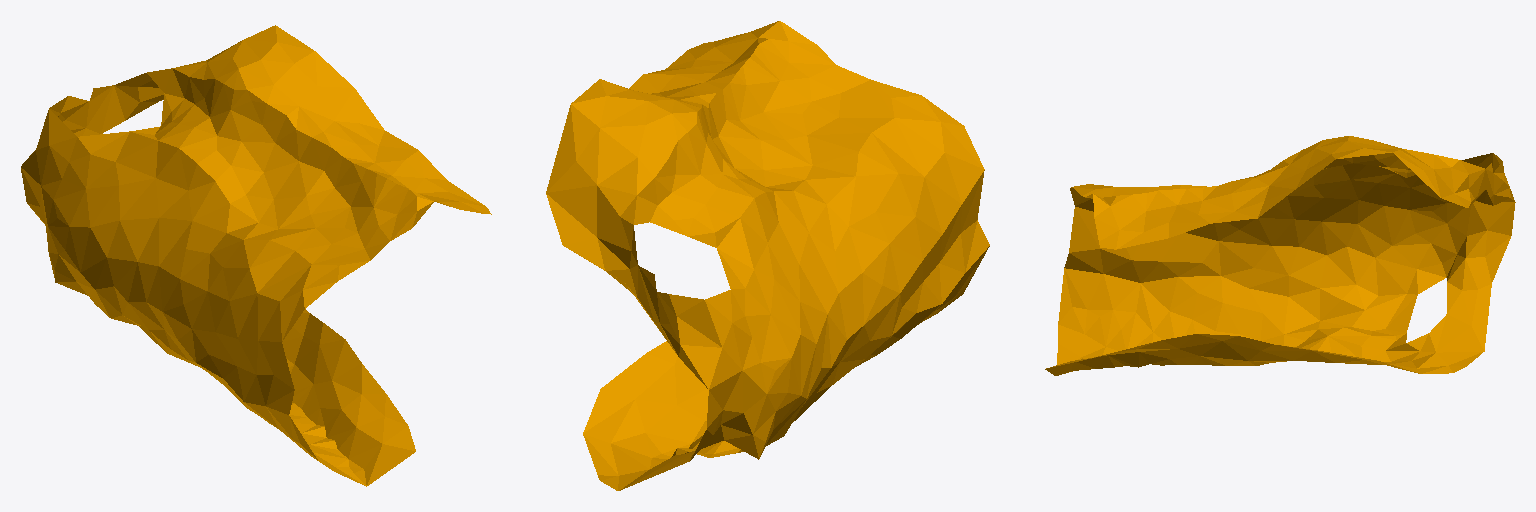
URDF robot description (init):
<?xml version='1.0' encoding='utf-8'?>
<robot name="init">
<link name="link_0"><inertial><mass value="1.0" /><origin rpy="0 0 0" xyz="0.000000 0.000000 0.000000" /><inertia ixx="1.0" ixy="0.0" ixz="0.0" iyy="1.0" iyz="0.0" izz="1.0" /></inertial><visual><origin rpy="0 0 0" xyz="0.000000 0.000000 0.000000" /><geometry><mesh filename="./clothHuman/cloth/2720.obj" /></geometry></visual><collision><origin rpy="0 0 0" xyz="0.000000 0.000000 0.000000" /><geometry><mesh filename="./clothHuman/cloth/2720.obj" /></geometry></collision></link></robot>

--- What the picture shows (computed from the rendered views, not written in the file) ---
The picture shows the robot from 3 angles, left to right: view 1: azimuth 30°, elevation 25°; view 2: azimuth 150°, elevation 25°; view 3: azimuth 270°, elevation 25°; orthographic projection.
Robot: init — 1 links, 0 joints (none); root link link_0; default pose: every joint at zero.
Visible links, largest first — view 1: link_0; view 2: link_0; view 3: link_0.
Boxes of the visible links, x1=… form: link_0: x1=21, y1=25, x2=491, y2=486; link_0: x1=546, y1=21, x2=989, y2=490; link_0: x1=1045, y1=136, x2=1515, y2=375.
Size in the robot's own frame: 2.15 by 3.89 by 2.43 metres.
Meshes: 1 distinct files referenced, 1 mesh visuals loaded (1 OBJ).